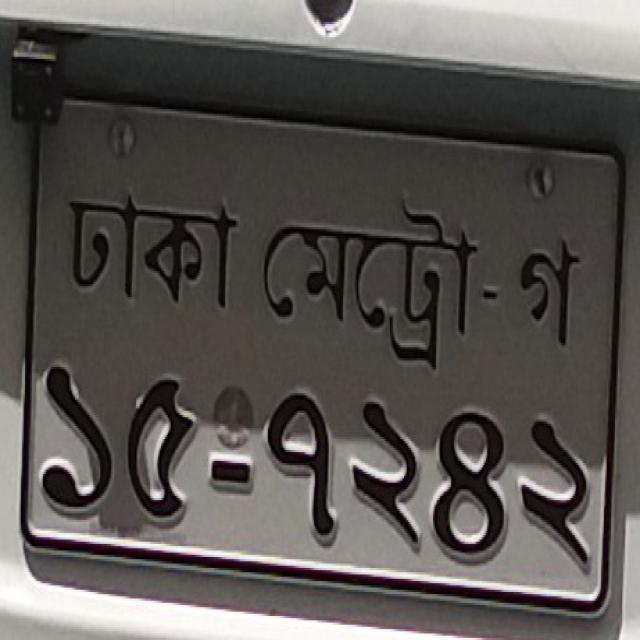numberplate: (2, 19, 636, 637)
